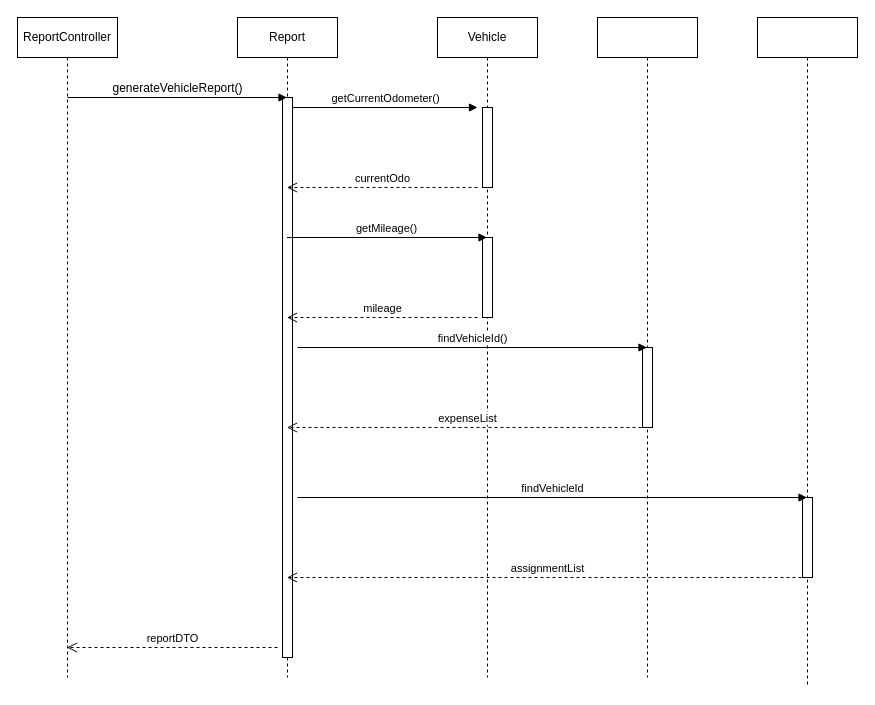
Some shapes in this 875 by 705 pixel diagram are drawn without their labels. Each missing label, with the box of its shape:
Assignment: (756, 16, 858, 688)
Expense: (596, 16, 698, 678)
